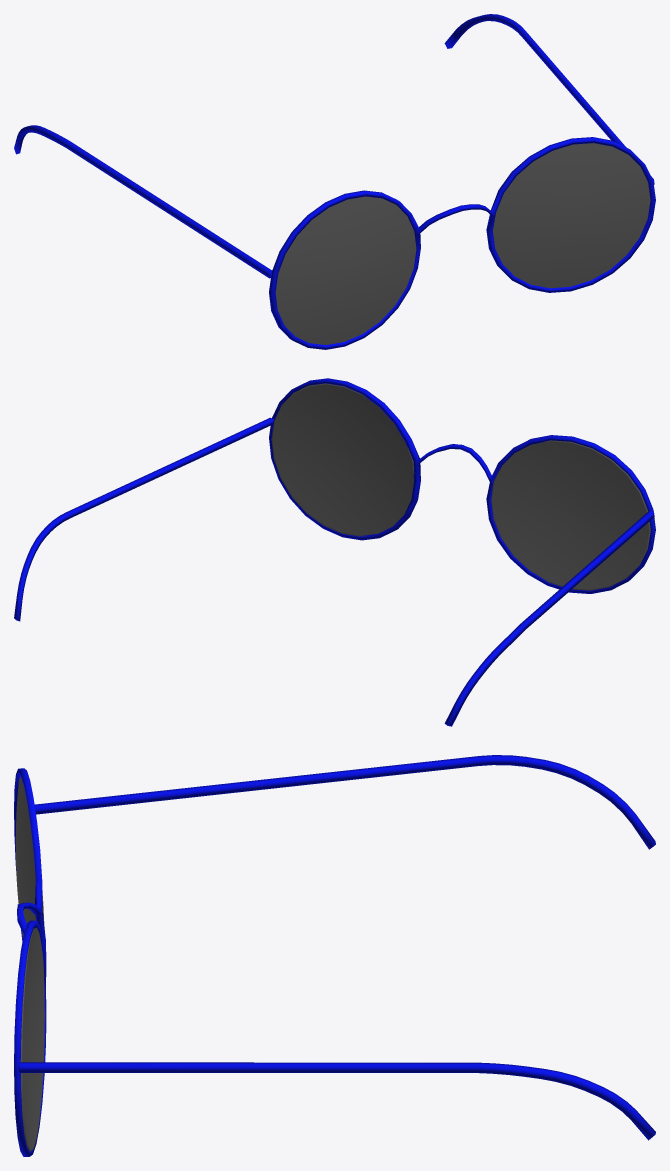
File: glass3_blue.glb
3 views of the same model, one above another, from view 1: azimuth 30°, elevation 25°; view 2: azimuth 150°, elevation 25°; view 3: azimuth 270°, elevation 25° (orthographic). The views are drawn at different scales.
Visible parts, largest first — view 1: glasses lenses.002, glasses lenses.001, glasses frame.001, glasses frame; view 2: glasses lenses.001, glasses lenses.002, glasses frame, glasses frame.001; view 3: glasses frame, glasses frame.001, glasses lenses.002, glasses lenses.001.
Boxes of the visible parts, x1=… form: glasses lenses.002: x1=492, y1=143, x2=650, y2=288; glasses lenses.001: x1=275, y1=196, x2=416, y2=344; glasses frame.001: x1=14, y1=125, x2=464, y2=349; glasses frame: x1=444, y1=14, x2=655, y2=292; glasses lenses.001: x1=491, y1=440, x2=650, y2=590; glasses lenses.002: x1=271, y1=383, x2=414, y2=536; glasses frame: x1=14, y1=378, x2=463, y2=621; glasses frame.001: x1=444, y1=435, x2=655, y2=726; glasses frame: x1=14, y1=907, x2=655, y2=1156; glasses frame.001: x1=14, y1=755, x2=655, y2=984; glasses lenses.002: x1=20, y1=927, x2=44, y2=1151; glasses lenses.001: x1=15, y1=776, x2=44, y2=938.
Size of the model in its own units: 0.152 by 0.0478 by 0.1318.
